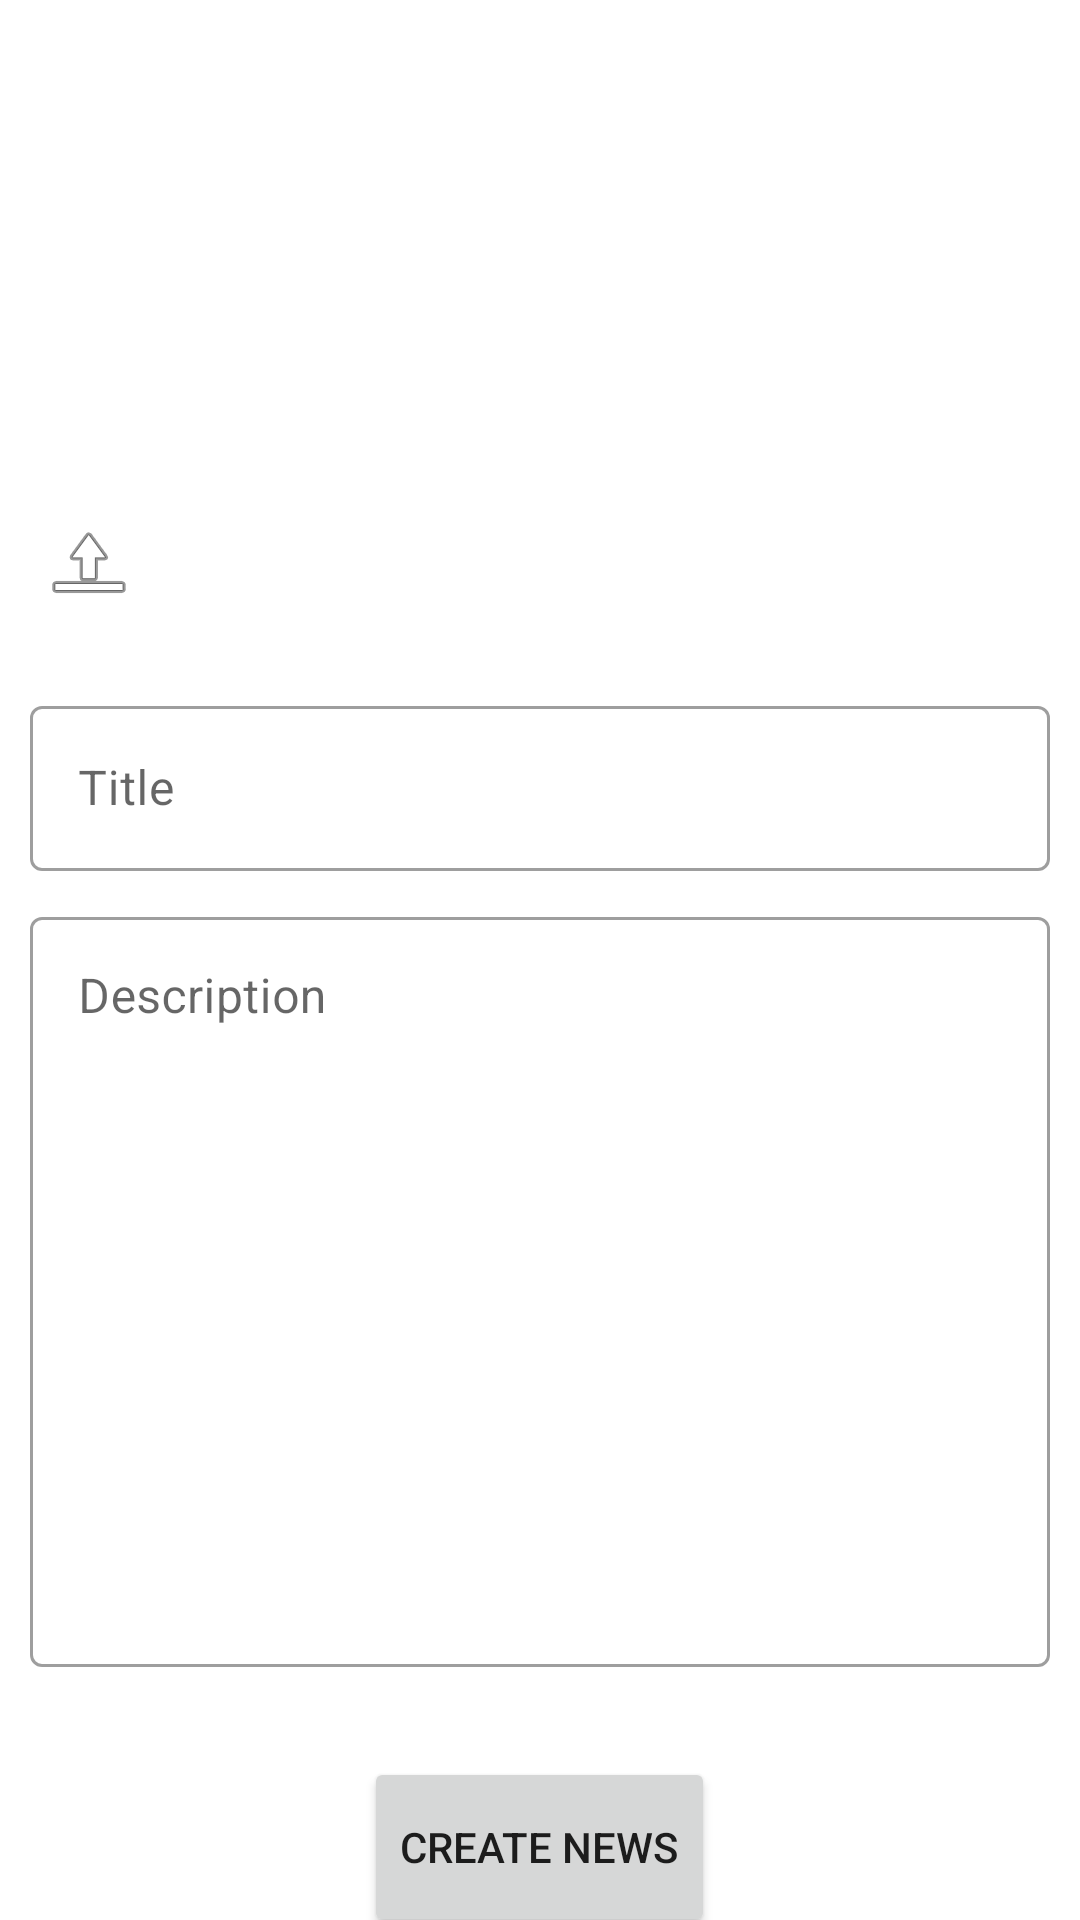

Named icons in this screenshot (1080×1920) and their bounding boxes, bbox(x1, y1, x2, y2):
upload you tube: bbox(52, 532, 126, 593)
